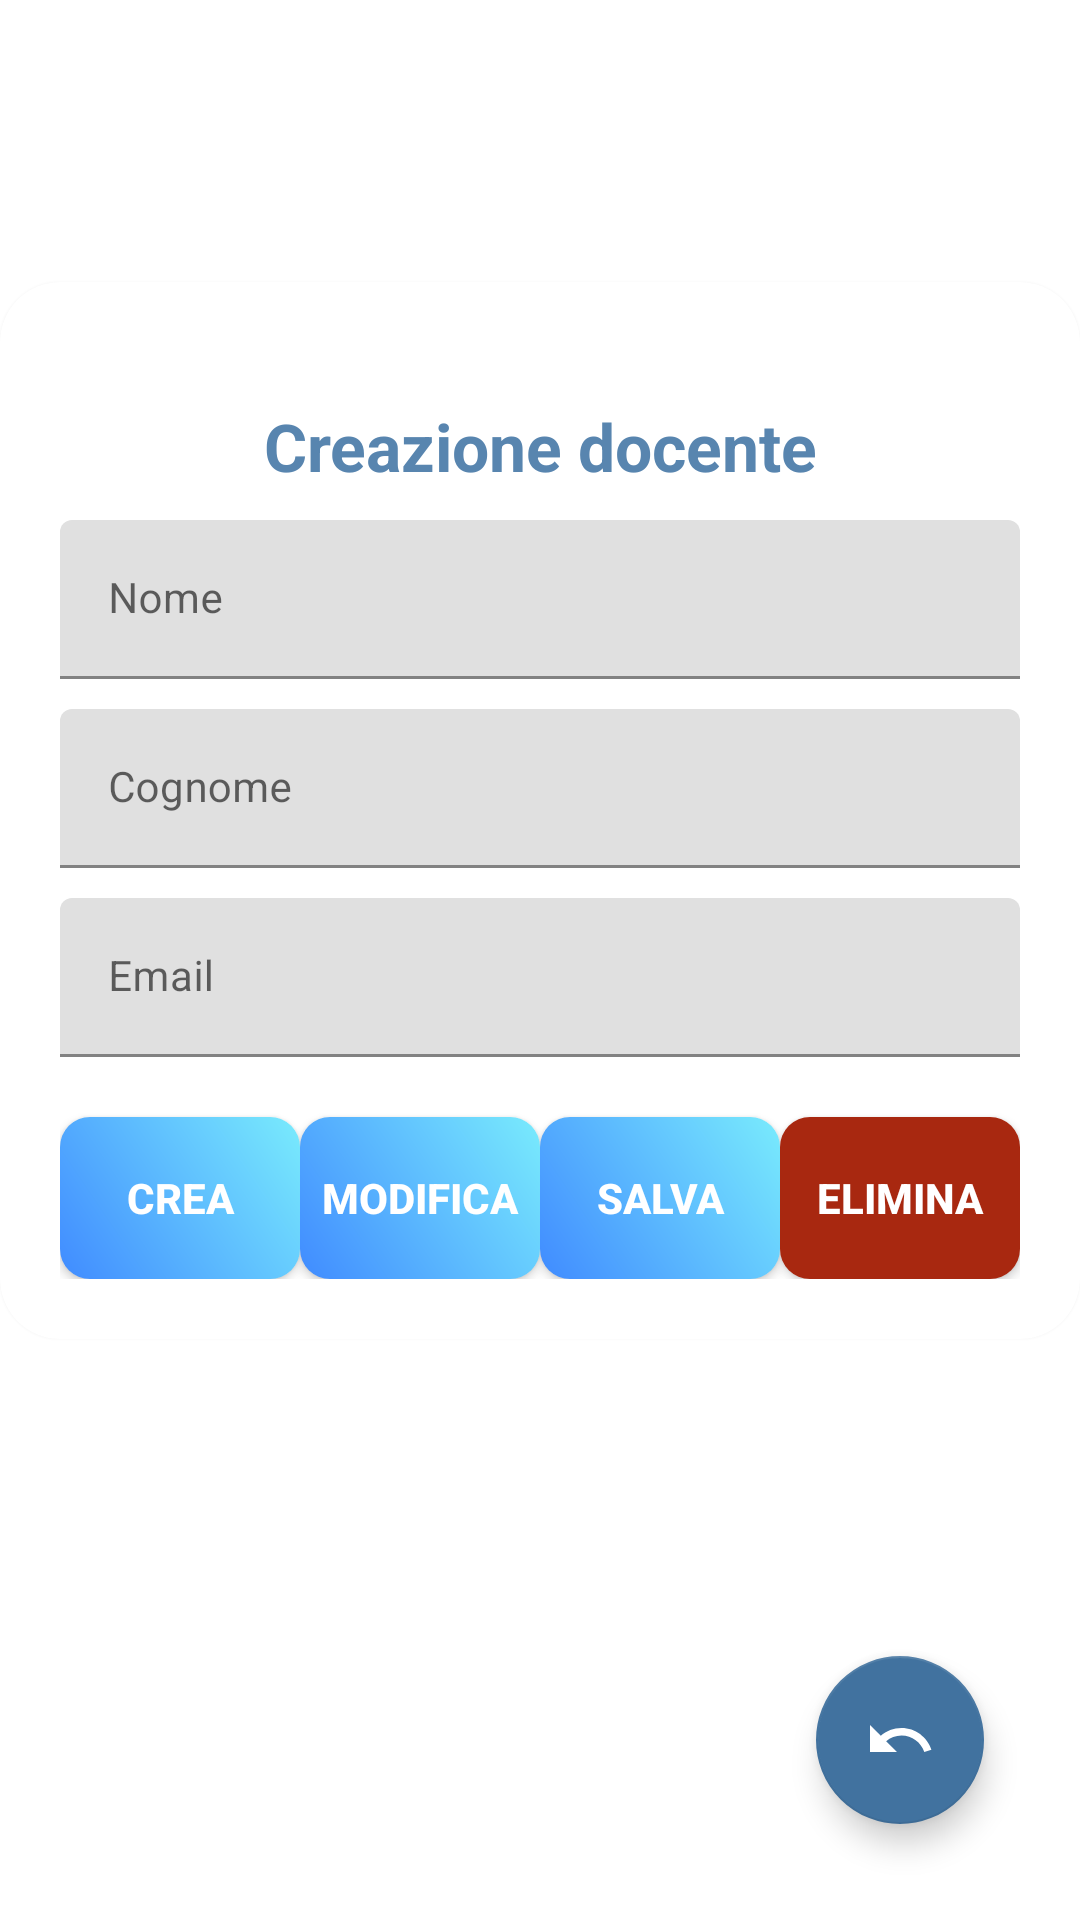

Named icons in this screenshot (1080w x 1920h) and their centers, [x,y]:
back: [900,1740]
